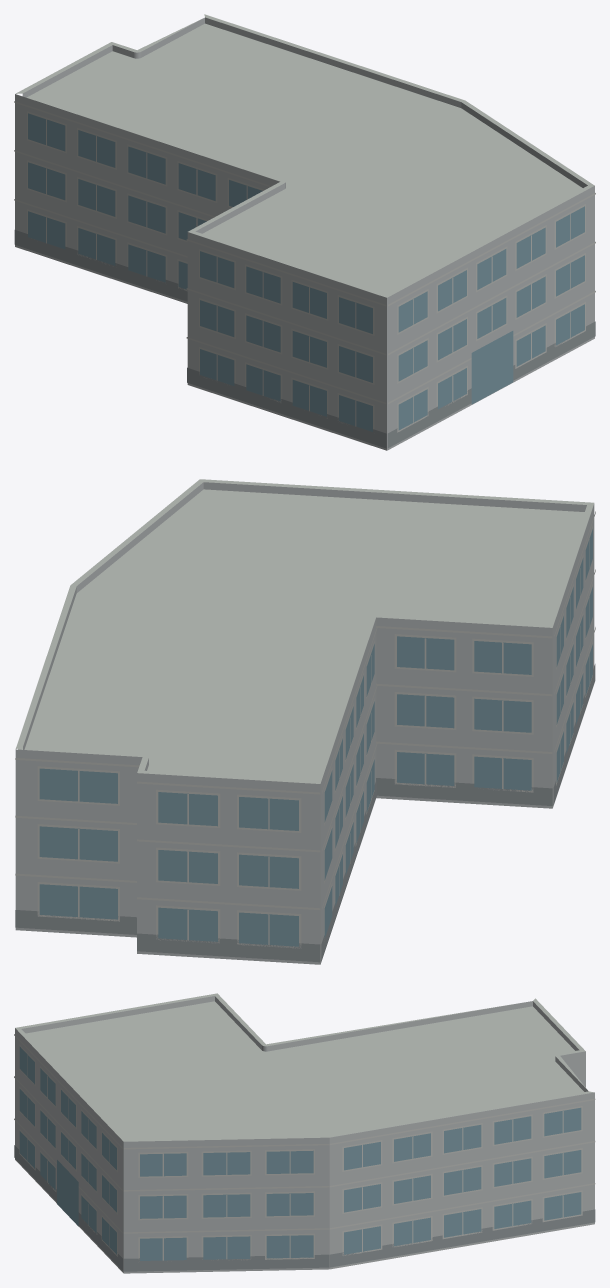
Rendered from public-bf244b96-7353-48a6-bf2d-26e1dcf7e0a5.glb.
The picture shows the model from 3 angles, top to bottom: view 1: azimuth 30°, elevation 25°; view 2: azimuth 150°, elevation 25°; view 3: azimuth 270°, elevation 25°; orthographic projection. The views are drawn at different scales.
Visible parts, largest first — view 1: public-bf244b96-7353-48a6-bf2d-26e1dcf7e0a5; view 2: public-bf244b96-7353-48a6-bf2d-26e1dcf7e0a5; view 3: public-bf244b96-7353-48a6-bf2d-26e1dcf7e0a5.
Part boxes in pixels (box(x1,y1,x2,y2)): public-bf244b96-7353-48a6-bf2d-26e1dcf7e0a5: box(14, 14, 595, 450); public-bf244b96-7353-48a6-bf2d-26e1dcf7e0a5: box(15, 479, 595, 964); public-bf244b96-7353-48a6-bf2d-26e1dcf7e0a5: box(14, 993, 595, 1273).
Bounding box in the file's own units: 22.23 × 9.15 × 36.61.
